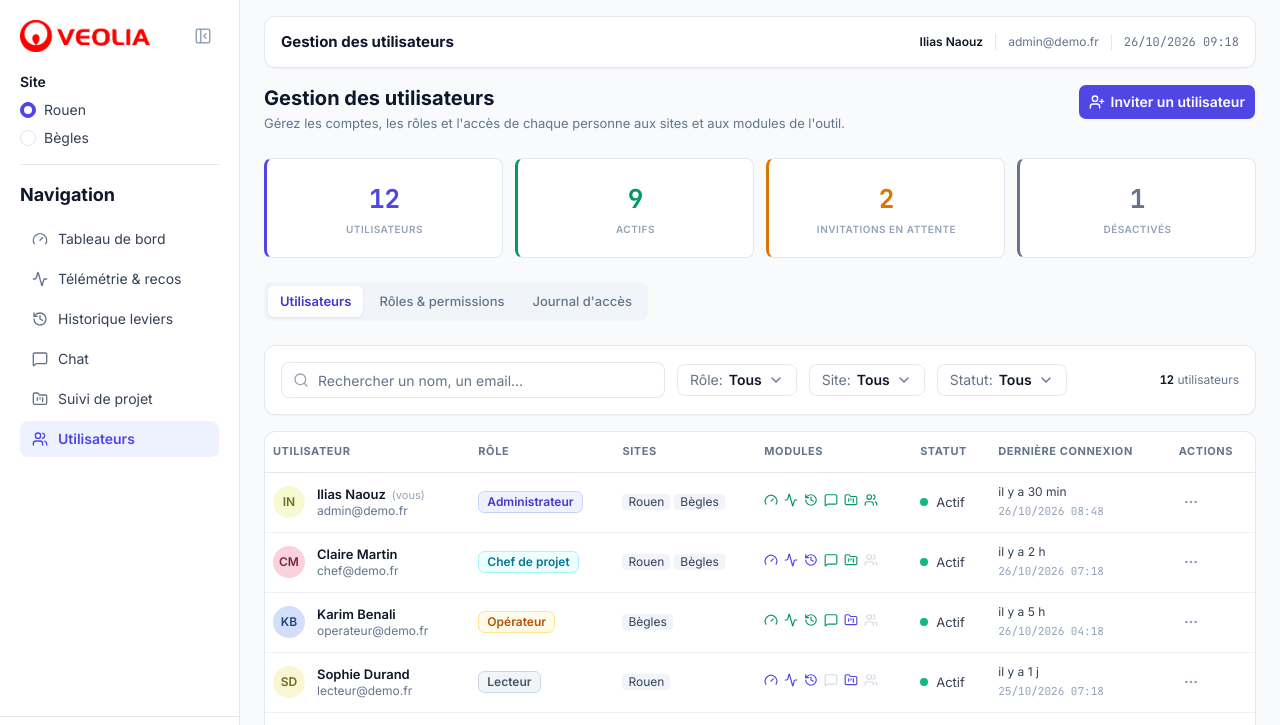
Test: UsersPage › ouvre la matrice des rôles
The width and height of the screenshot is (1280, 725).
Click the tab "Rôles & permissions": (442, 301) [367,286,516,317]
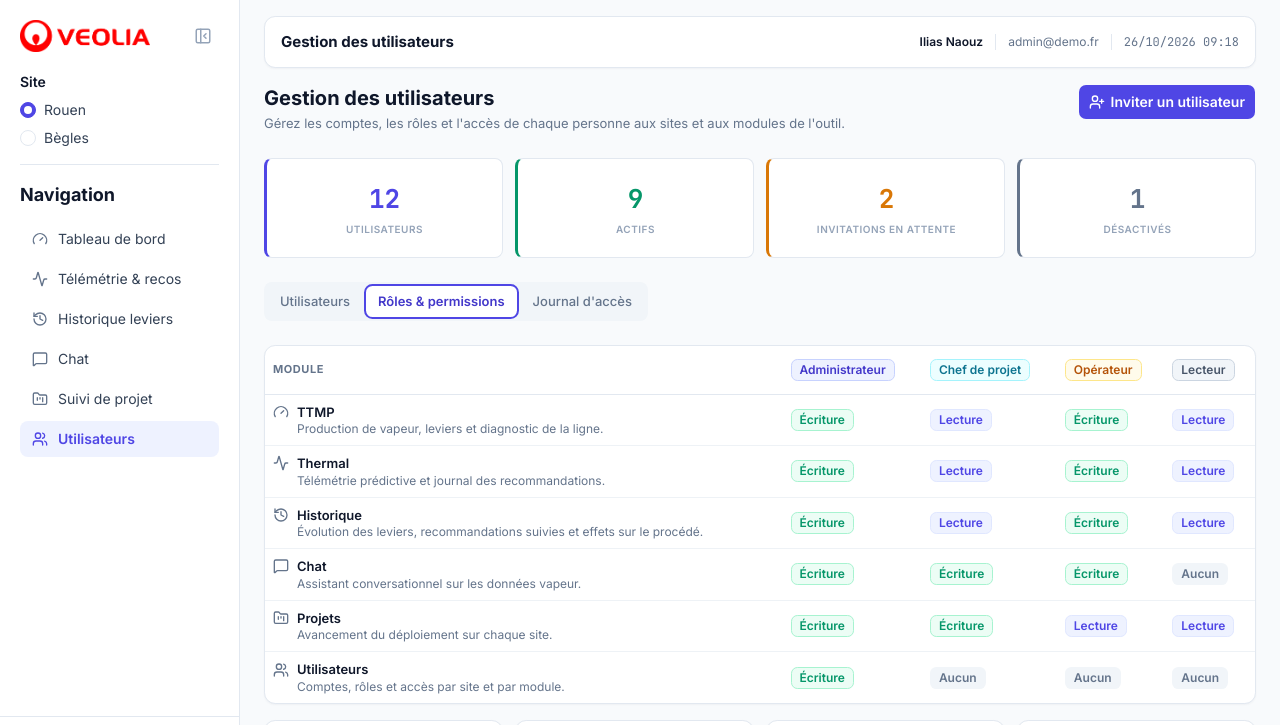
Expected: the 2nd text "Écriture" is shown, [790,409,854,431]
